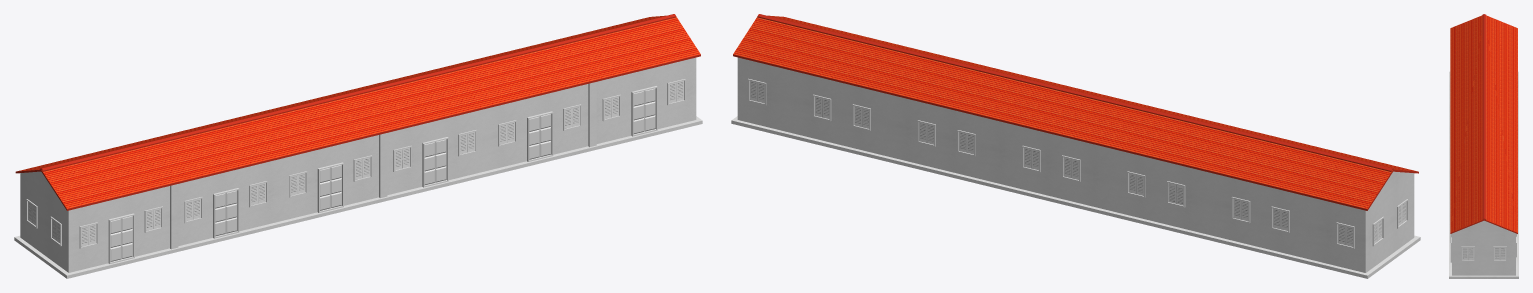
The model's file is Teres.fbx.
The picture shows the model from 3 angles, left to right: view 1: azimuth 30°, elevation 25°; view 2: azimuth 150°, elevation 25°; view 3: azimuth 270°, elevation 25°; orthographic projection. The views are drawn at different scales.
Visible parts, largest first — view 1: Cube; view 2: Cube; view 3: Cube.
Part boxes in pixels (x1,y1,x2,y2): Cube: [14, 14, 702, 278]; Cube: [731, 14, 1420, 278]; Cube: [1449, 14, 1518, 278].
Bounding box in the file's own units: 30.37 × 4.14 × 4.37.
